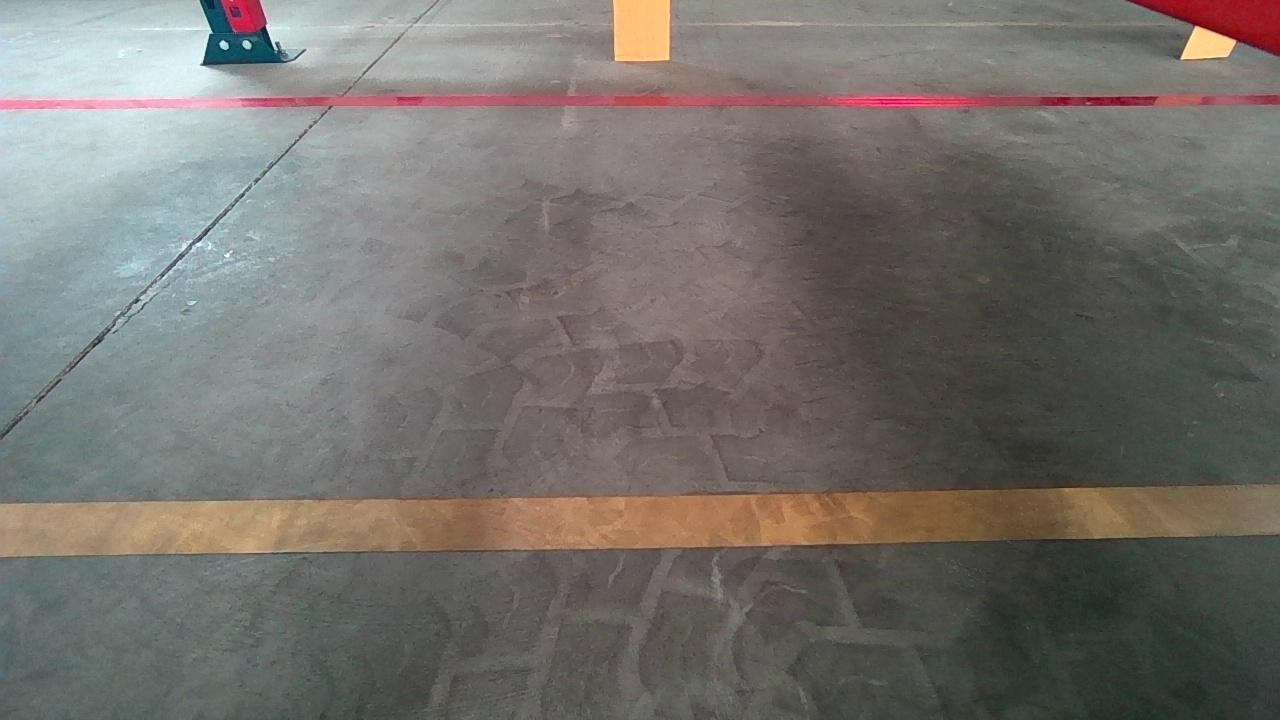h_rack: (1167, 10, 1264, 58)
orange_strip: (614, 0, 672, 61), (1175, 13, 1248, 61)
red_line: (32, 92, 1267, 117)
yellow_line: (3, 482, 1280, 558)
